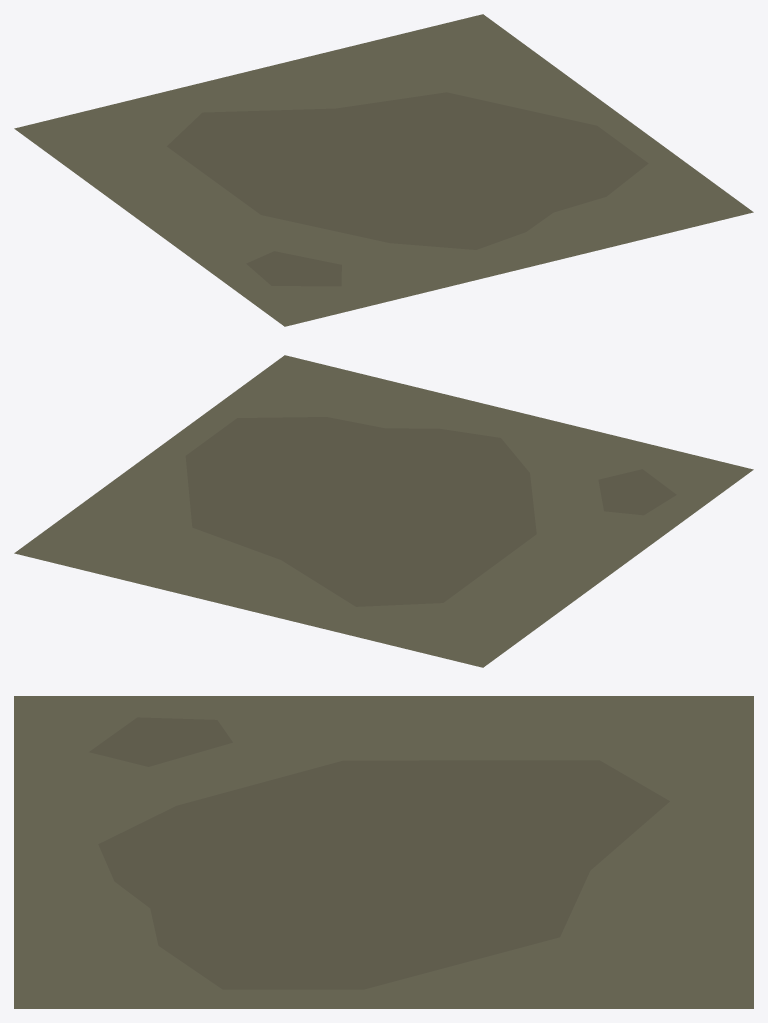
File: AI_Env_Roof_01_Stained.fbx
3 views of the same model, one above another, from view 1: azimuth 30°, elevation 25°; view 2: azimuth 150°, elevation 25°; view 3: azimuth 270°, elevation 25° (orthographic). The views are drawn at different scales.
Visible parts, largest first — view 1: AI_Env_Roof_01_Stained; view 2: AI_Env_Roof_01_Stained; view 3: AI_Env_Roof_01_Stained.
Part boxes in pixels (bbox=[...]): AI_Env_Roof_01_Stained: bbox=[14, 14, 753, 326]; AI_Env_Roof_01_Stained: bbox=[14, 355, 753, 667]; AI_Env_Roof_01_Stained: bbox=[14, 696, 753, 1008].
Bounding box in the file's own units: 5 × 0 × 5.
